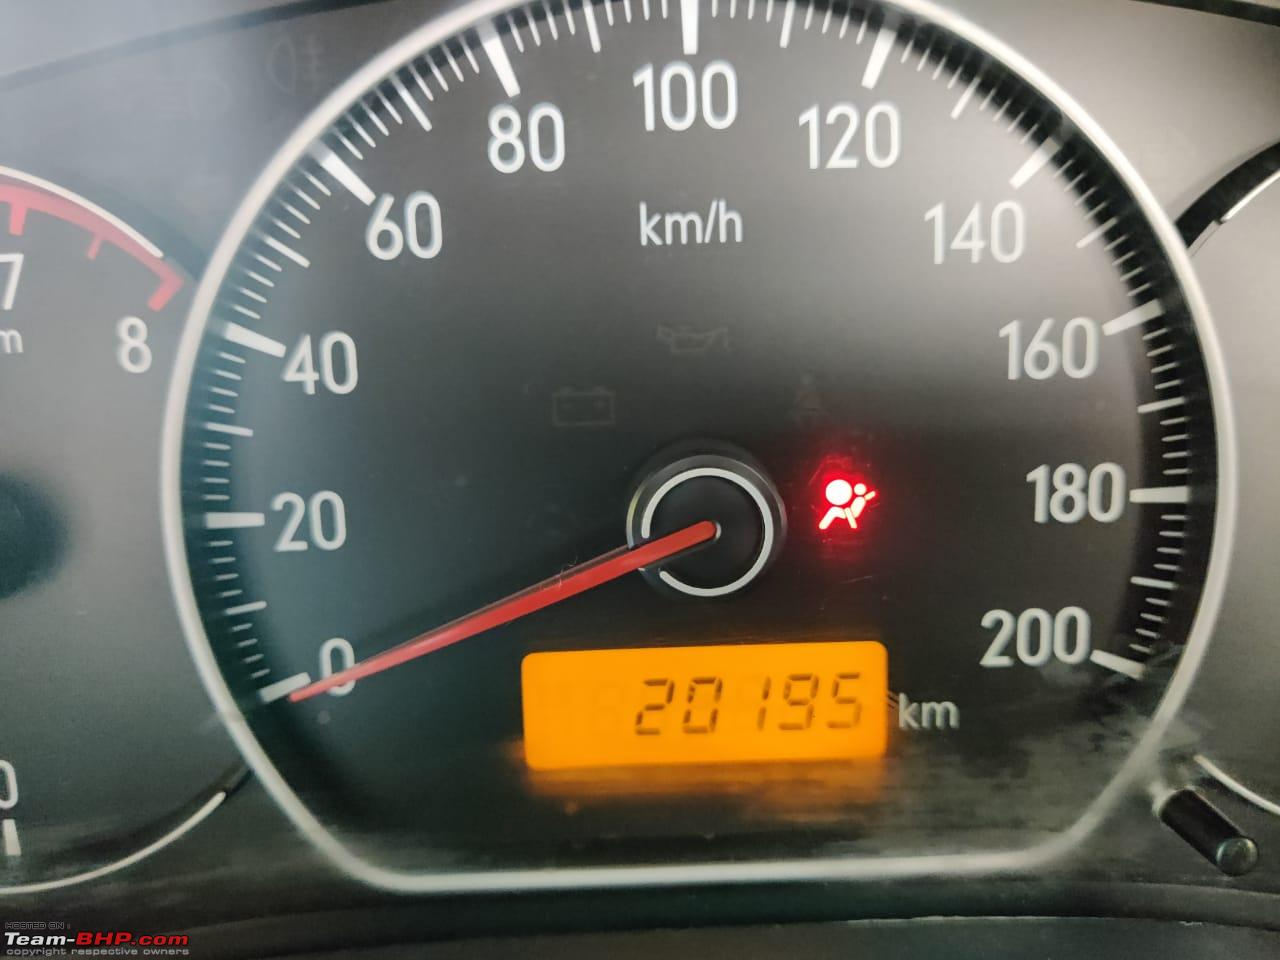Airbag_warning: (816, 473, 882, 538)
